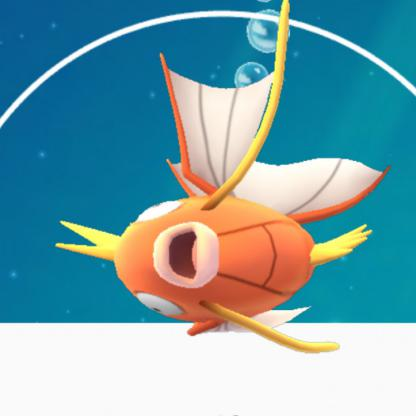Magikarp: (30, 50, 385, 362)
